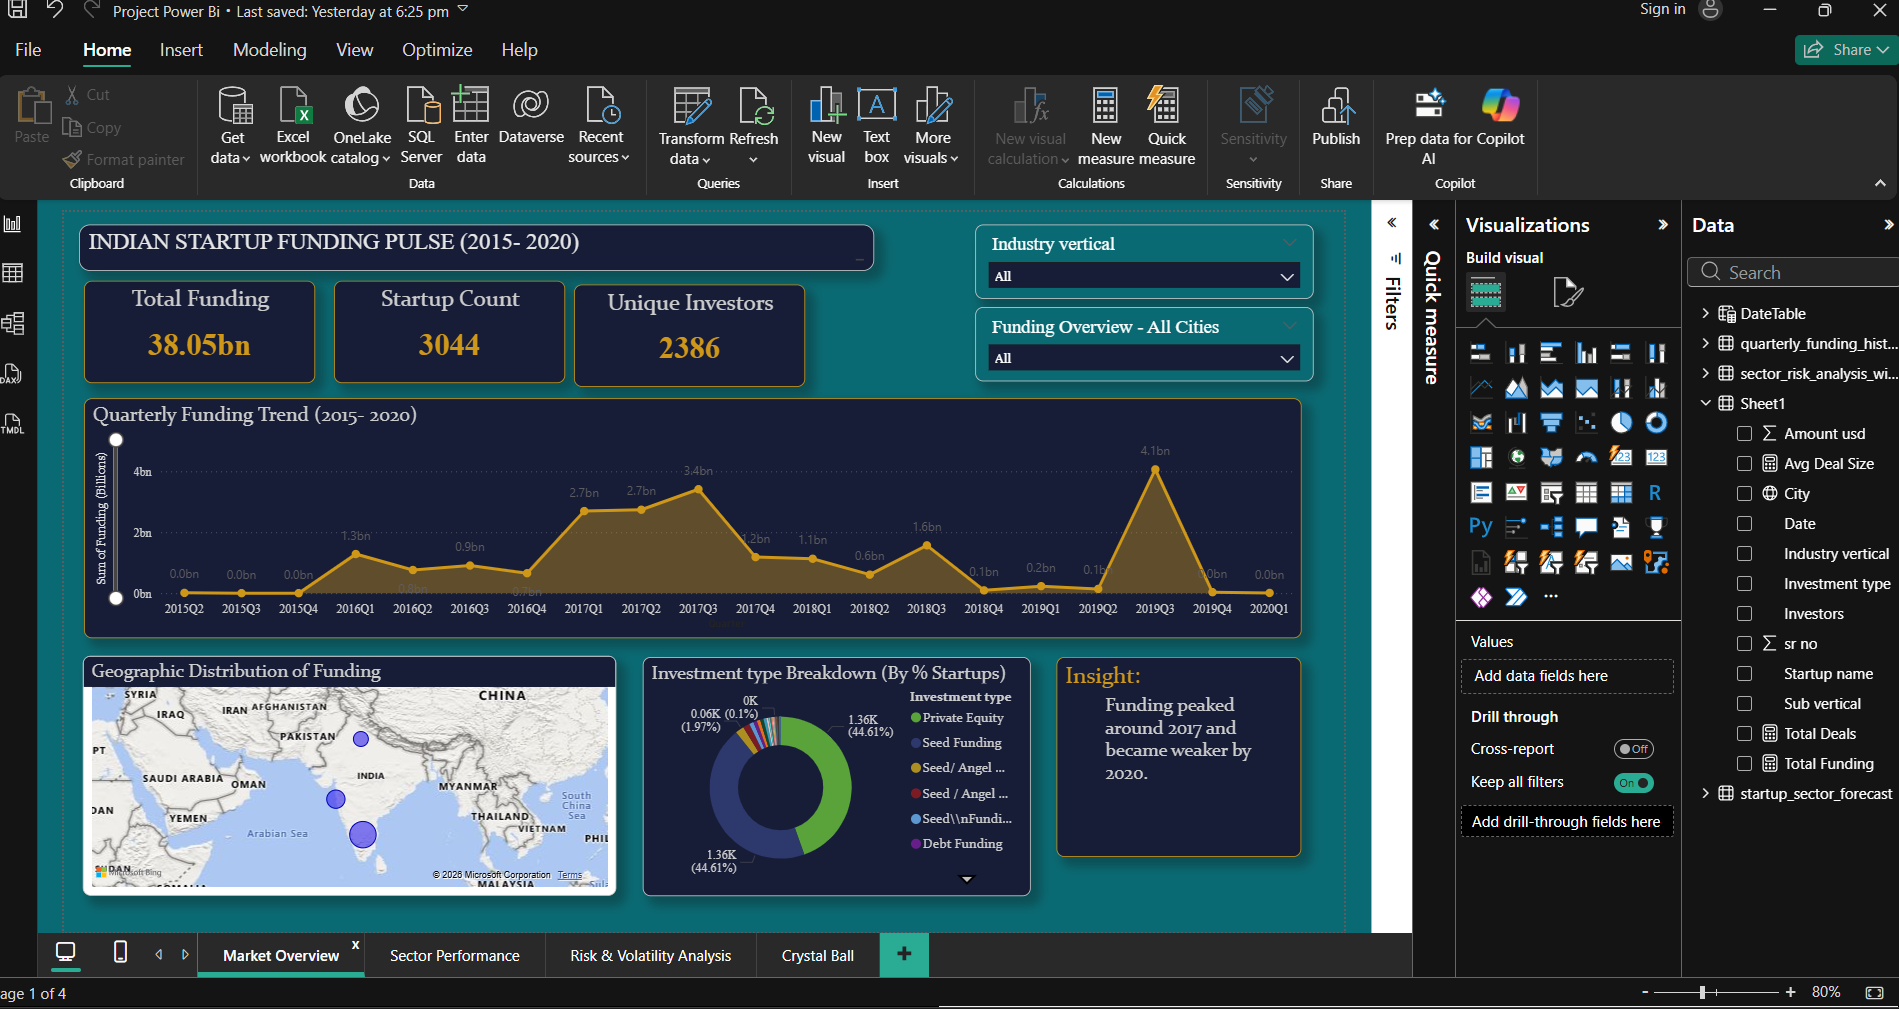

The dashboard page shown, as its layout file describes it:
{"tool":"powerbi","page":{"name":"Market Overview","canvas":[1280,720],"ordinal":0},"visuals":[{"type":"card","title":"Startup Count","fields":{"Values":["CountNonNull(Sheet1.Startup name)"]},"box":[269.4,68.9,231.4,102],"z":0},{"type":"card","title":"Unique Investors","fields":{"Values":["Count(Sheet1.Investors)"]},"box":[509.8,72.9,231.4,102],"z":1000},{"type":"card","title":"Total Funding","fields":{"Values":["Sheet1.Total Funding"]},"box":[19.4,68.9,231.4,102],"z":2000},{"type":"slicer","fields":{"Values":["Sheet1.Industry  vertical"]},"box":[911.8,12.4,338.4,74.6],"z":3000},{"type":"slicer","fields":{"Values":["Sheet1.City"]},"box":[911.8,94.5,338.4,74.6],"z":4000},{"type":"lineChart","title":"Quarterly Funding Trend (2015- 2020)","fields":{"Category":["quarterly_funding_history.Quarter"],"Y":["Sum(quarterly_funding_history.Funding)"]},"box":[19.4,185.8,1217.8,240.1],"z":5000},{"type":"textbox","title":"INDIAN STARTUP FUNDING PULSE  (2015- 2020)","box":[14.9,12.4,794.9,46],"z":6000},{"type":"map","title":"Geographic Distribution of Funding","fields":{"Category":["Sheet1.City"],"Size":["Sum(Sheet1.Amount usd)"]},"box":[18.5,443.4,533.7,240.2],"z":7000},{"type":"donutChart","title":"Investment type Breakdown (By % Startups)","fields":{"Category":["Sheet1.Investment type"],"Y":["CountNonNull(Sheet1.Startup name)"]},"box":[579.1,444.9,388.2,239.2],"z":8000},{"type":"textbox","title":"Insight: ","box":[992.7,445.3,245.1,200.3],"z":9000}]}

Visuals, with their boxes on the page's 1280x720 design canvas (x1, y1, x2, y2). These are canvas units, not pixel positions in the 1899x1009 screenshot, which may show the page scaled, cropped or inside an application window:
"Startup Count" card: BBox(269, 69, 501, 171)
"Unique Investors" card: BBox(510, 73, 741, 175)
"Total Funding" card: BBox(19, 69, 251, 171)
slicer - Sheet1.Industry  vertical: BBox(912, 12, 1250, 87)
slicer - Sheet1.City: BBox(912, 94, 1250, 169)
"Quarterly Funding Trend (2015- 2020)" lineChart: BBox(19, 186, 1237, 426)
"INDIAN STARTUP FUNDING PULSE  (2015- 2020)" textbox: BBox(15, 12, 810, 58)
"Geographic Distribution of Funding" map: BBox(18, 443, 552, 684)
"Investment type Breakdown (By % Startups)" donutChart: BBox(579, 445, 967, 684)
"Insight: " textbox: BBox(993, 445, 1238, 646)
